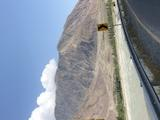right_turn: (58, 99, 160, 120), (68, 114, 80, 120)
